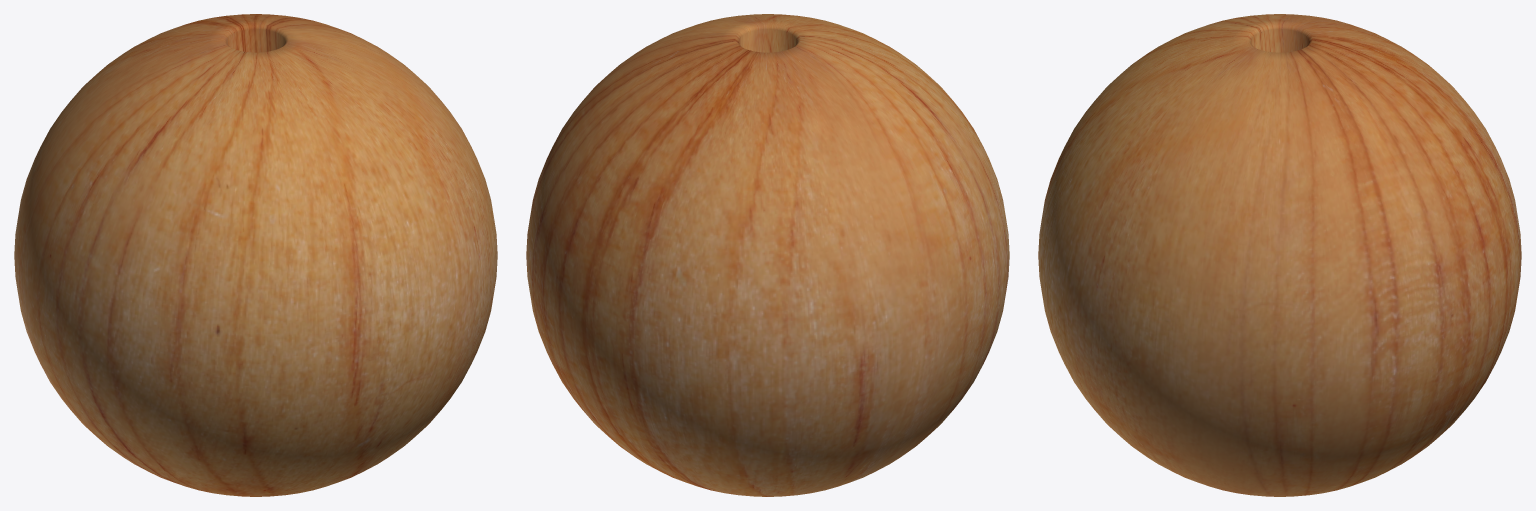
3 views of the same model, side by side, from view 1: azimuth 30°, elevation 25°; view 2: azimuth 150°, elevation 25°; view 3: azimuth 270°, elevation 25° (orthographic).
Visible parts, largest first — view 1: Sphere.001; view 2: Sphere.001; view 3: Sphere.001.
Boxes of the visible parts, left/top/right/bottom form: Sphere.001: left=14, top=14, right=497, bottom=496; Sphere.001: left=526, top=14, right=1009, bottom=496; Sphere.001: left=1038, top=14, right=1521, bottom=496.
Size of the model in its own units: 1 by 0.9894 by 1.
Materials: 1 (1 with a texture image).
